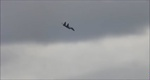maybay_muctieu: (60, 21, 75, 31)
